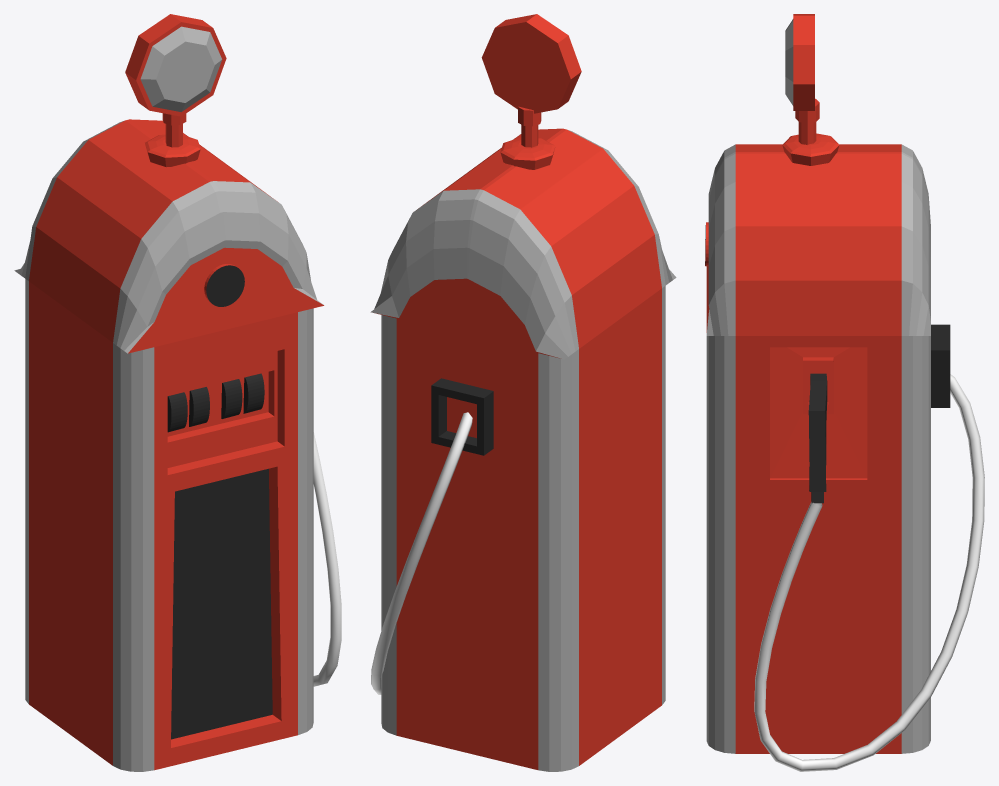
File: Gas_pump.fbx
3 views of the same model, side by side, from view 1: azimuth 30°, elevation 25°; view 2: azimuth 150°, elevation 25°; view 3: azimuth 270°, elevation 25° (orthographic).
Parts seen in each view (by area): view 1: Gas pump, gas pipe; view 2: Gas pump, gas pipe; view 3: Gas pump, gas pipe.
Part boxes in pixels (box(x1,y1,x2,y2)): Gas pump: box(14, 14, 324, 771); gas pipe: box(313, 432, 341, 686); Gas pump: box(370, 14, 676, 771); gas pipe: box(371, 412, 472, 694); Gas pump: box(705, 14, 950, 753); gas pipe: box(754, 374, 984, 771).
Bounding box in the file's own units: 270 × 749 × 274.
